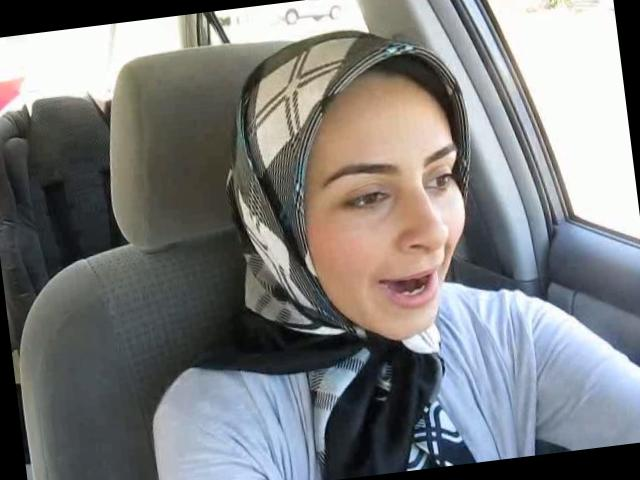eye_open: (336, 185, 393, 216), (426, 168, 456, 196)
face: (315, 126, 484, 346)
mouth_open: (368, 260, 444, 312)
